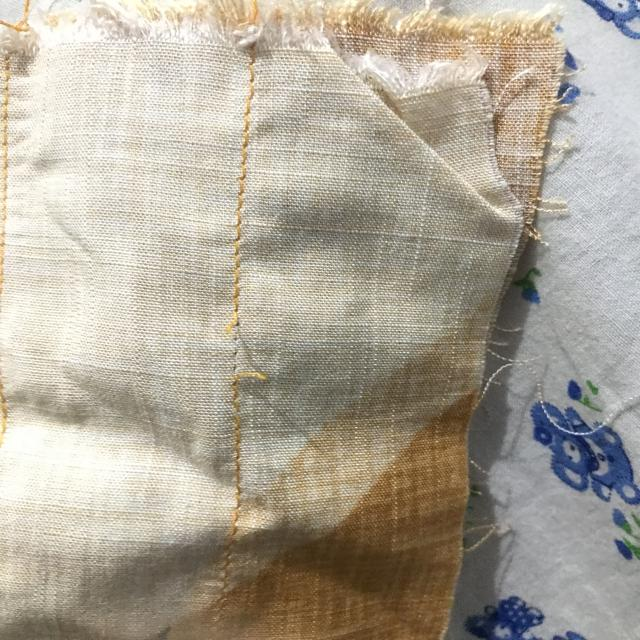broken: (216, 307, 276, 389)
good: (231, 157, 254, 262)
